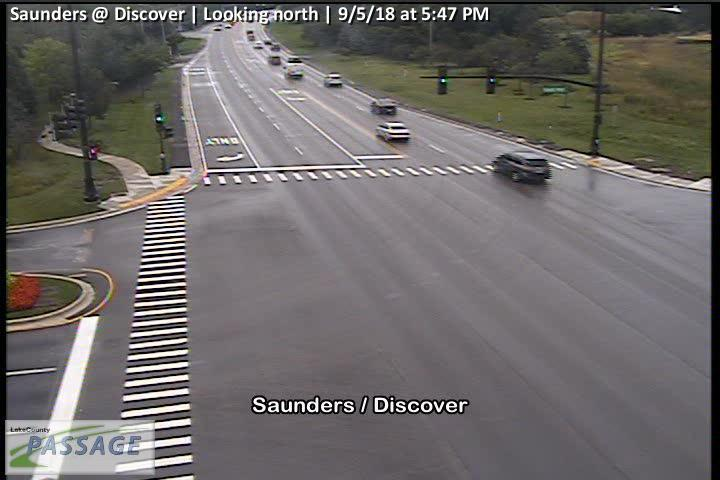SUV: (492, 151, 552, 183), (324, 74, 342, 86), (270, 55, 281, 65), (271, 43, 280, 50)
Sedan: (376, 121, 411, 141), (371, 100, 396, 114), (253, 41, 263, 48), (264, 39, 271, 44)
Truck: (282, 56, 304, 77)
